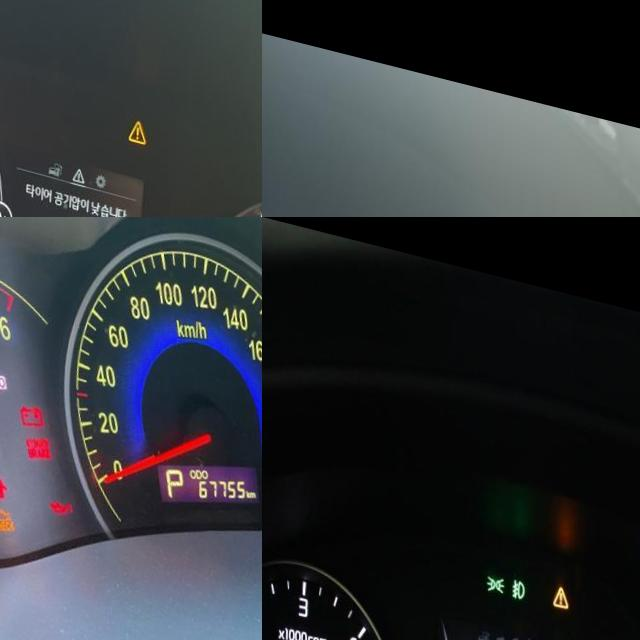Central Warning lamp: (129, 94, 148, 122), (554, 565, 572, 593)
Doors: (0, 465, 12, 494)
FrontFogLight: (513, 561, 528, 585)
SideLamp: (488, 558, 507, 580)
